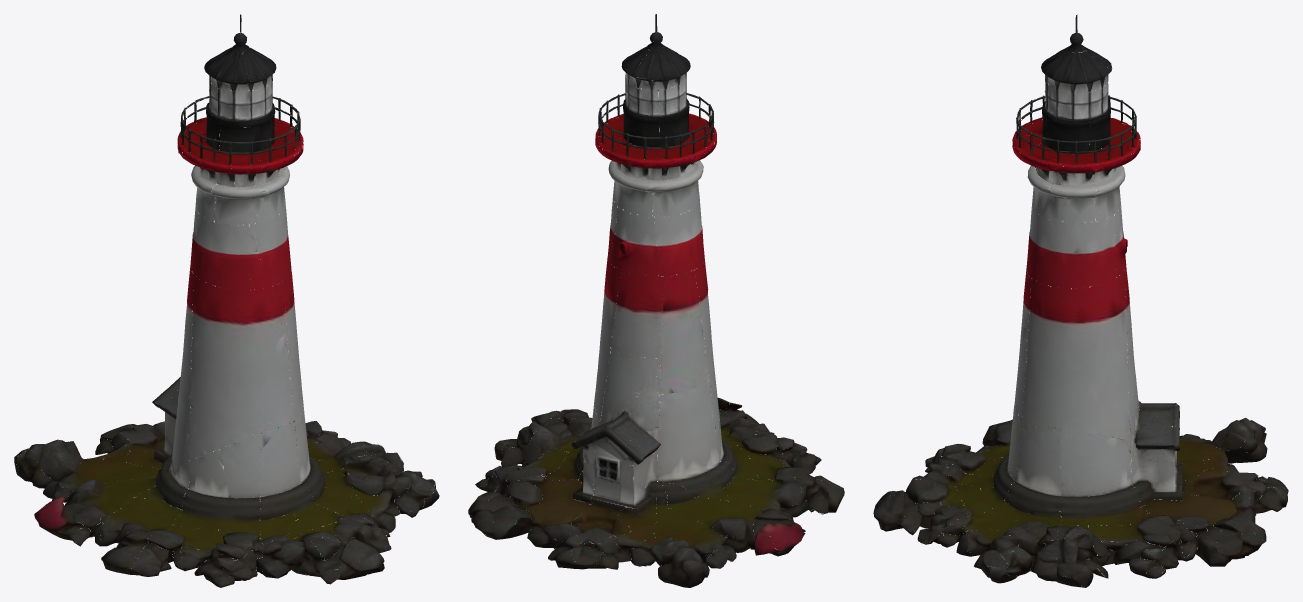
The model's file is lighthouse.glb.
3 views of the same model, side by side, from view 1: azimuth 30°, elevation 25°; view 2: azimuth 150°, elevation 25°; view 3: azimuth 270°, elevation 25° (orthographic). The views are drawn at different scales.
Parts seen in each view (by area): view 1: tripo_node_c5f3cd40-9dde-4c63-be27-4934b863cbd1; view 2: tripo_node_c5f3cd40-9dde-4c63-be27-4934b863cbd1; view 3: tripo_node_c5f3cd40-9dde-4c63-be27-4934b863cbd1.
Part boxes in pixels (box(x1,y1,x2,y2)): tripo_node_c5f3cd40-9dde-4c63-be27-4934b863cbd1: box(14, 14, 439, 587); tripo_node_c5f3cd40-9dde-4c63-be27-4934b863cbd1: box(468, 14, 844, 587); tripo_node_c5f3cd40-9dde-4c63-be27-4934b863cbd1: box(873, 14, 1288, 587).
Bounding box in the file's own units: 0.7095 × 1 × 0.76.
1 material, 1 textured.
